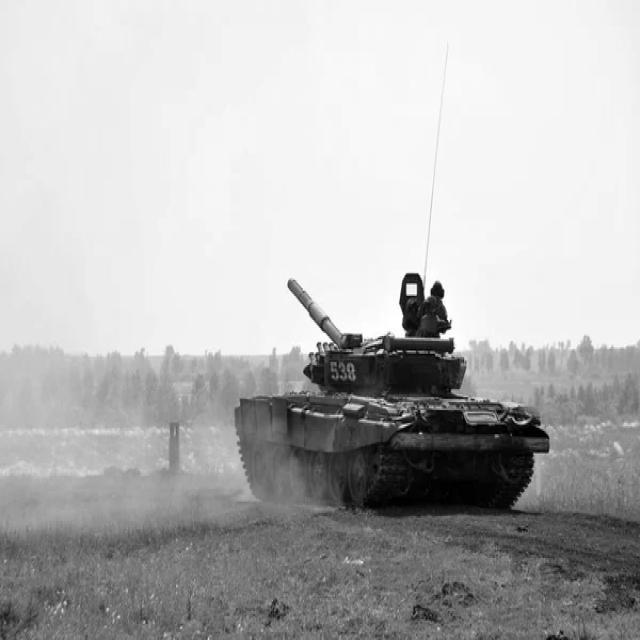Tank: (231, 256, 552, 522)
